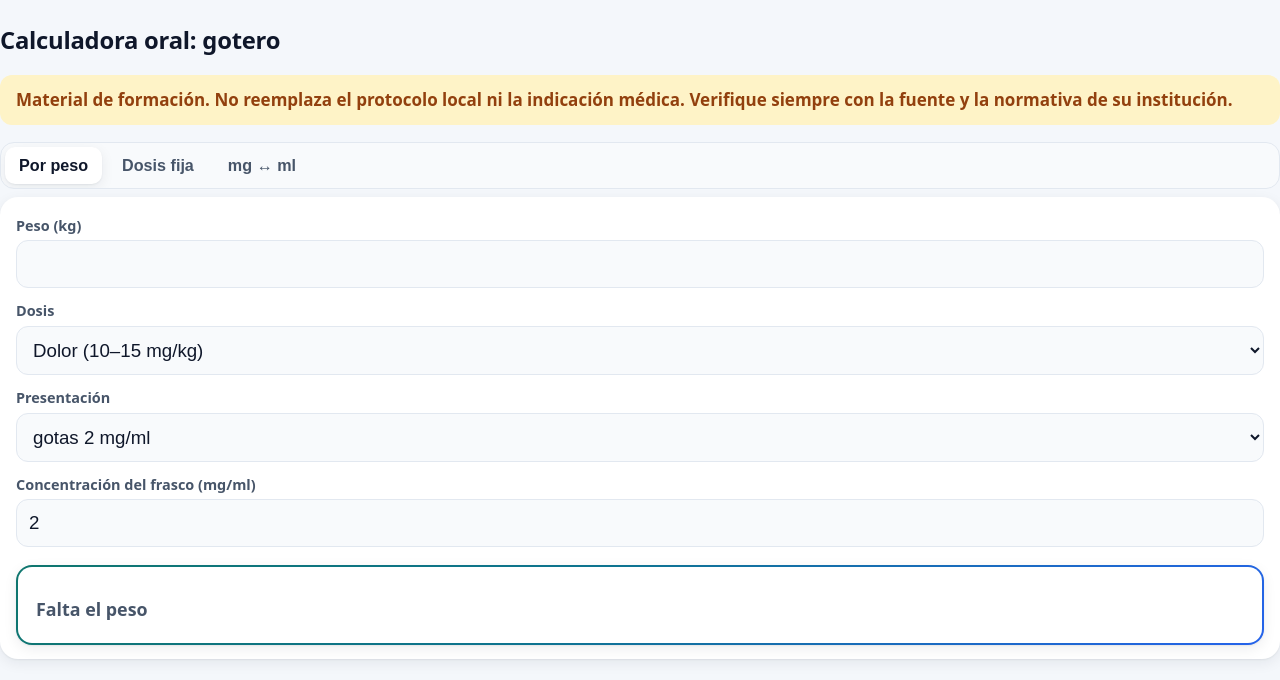
Scenario: CalculadoraOral › gotas: el resultado muestra gotas
Type "2" into the field labelled "Peso (kg)" at (640, 264), box [16,240,1264,288]
(page scrolled)
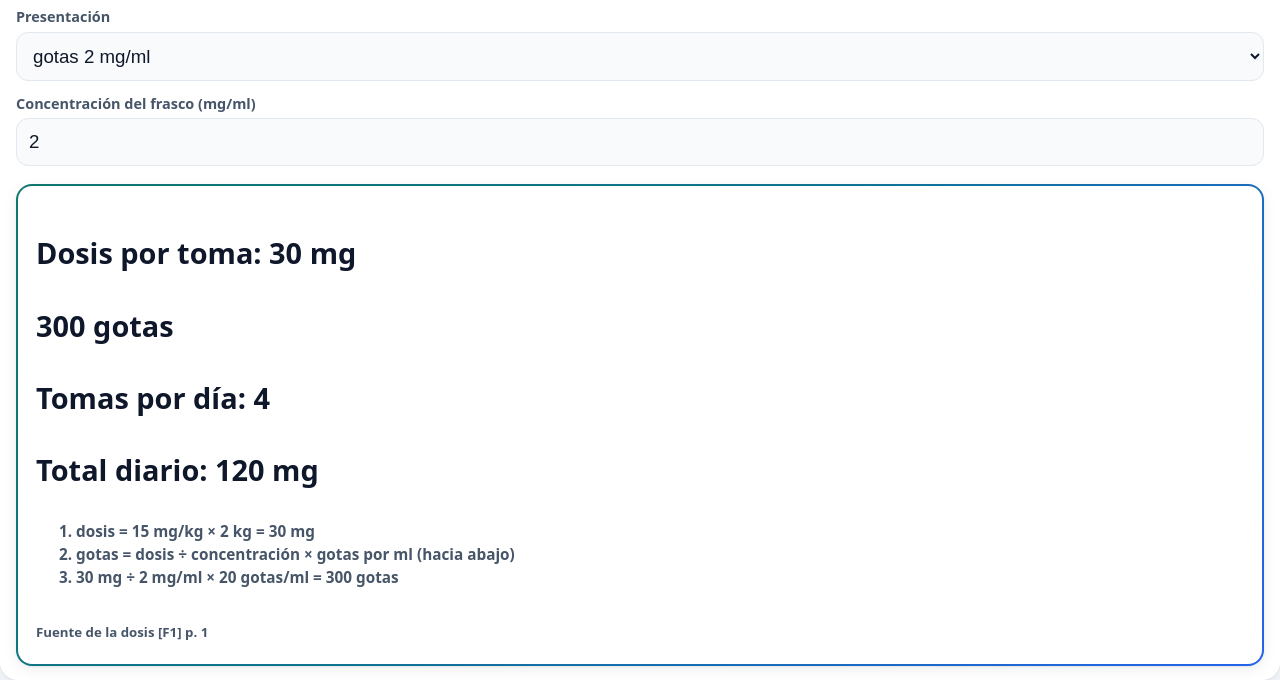
Check: the element with test id "resultado" shows "gotas", box [86,306,174,344]
